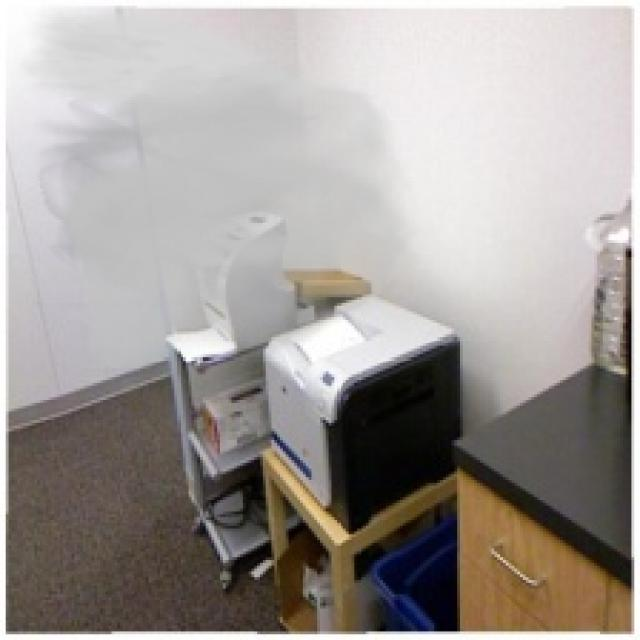smoke: (11, 3, 426, 371)
